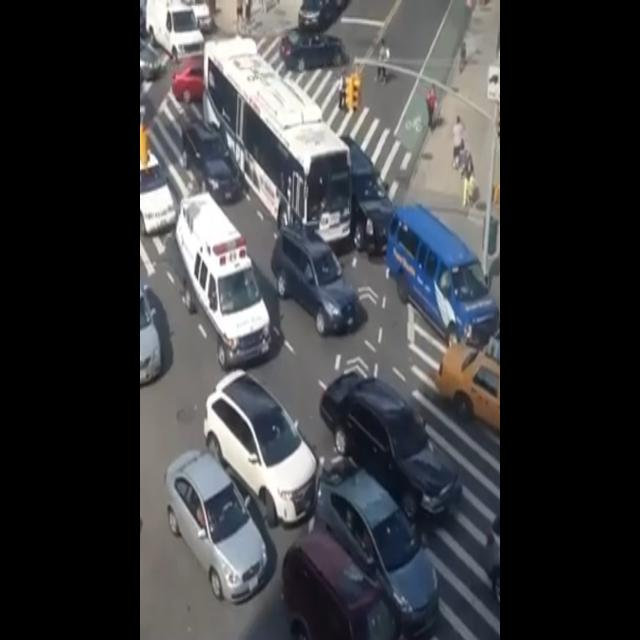Ambulance: (175, 185, 279, 376)
